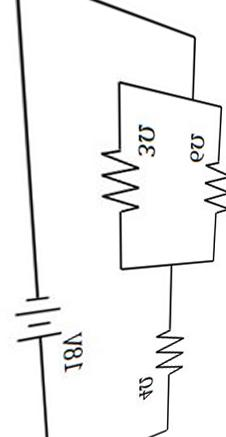resistor: (91, 143, 142, 230), (152, 314, 194, 388), (198, 159, 224, 225)
